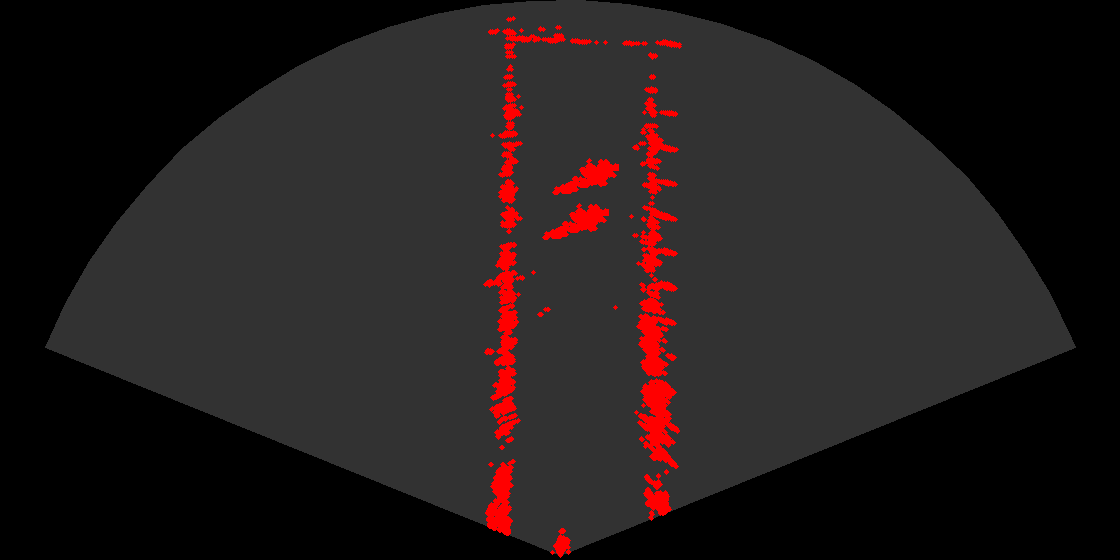frogman: (551, 152, 619, 199), (541, 197, 609, 244)
